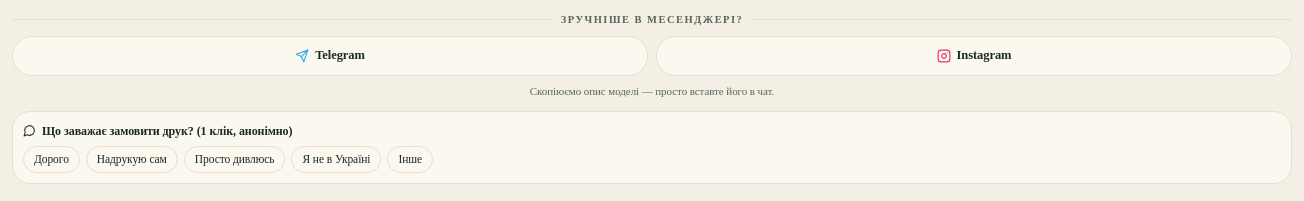
SalesAlternatives · відповідь на причину відмови › на причину «price» відповідає по суті, а не «дякуємо»
Click the button "Дорого" at (51, 160), box [23,146,80,173]
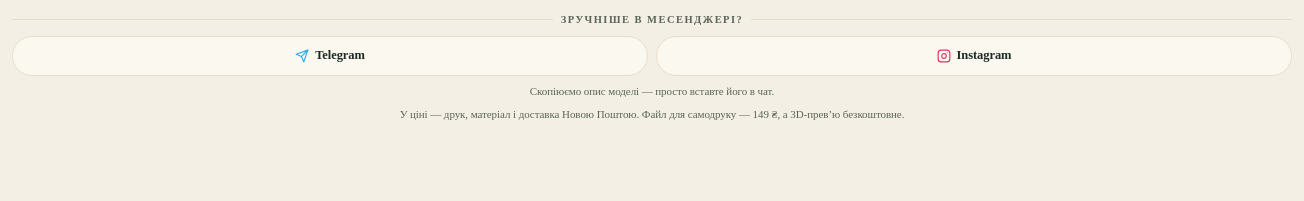
Now the element with test id "why-not-order" is gone
